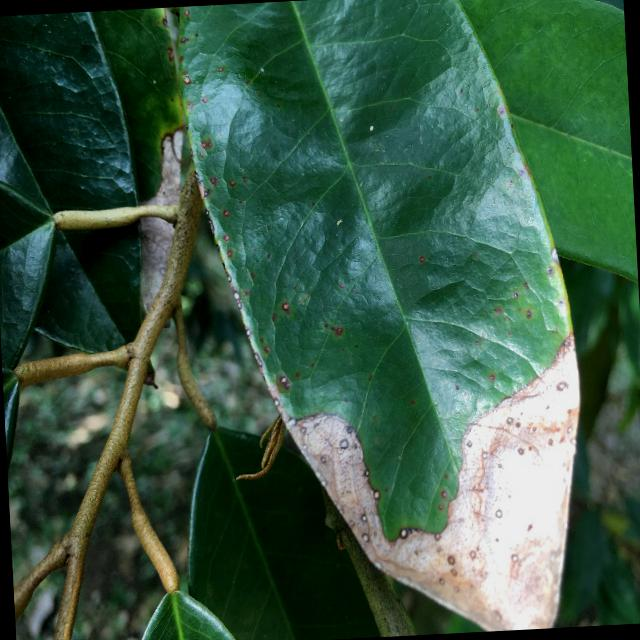Leaf Blight: (168, 0, 603, 639)
